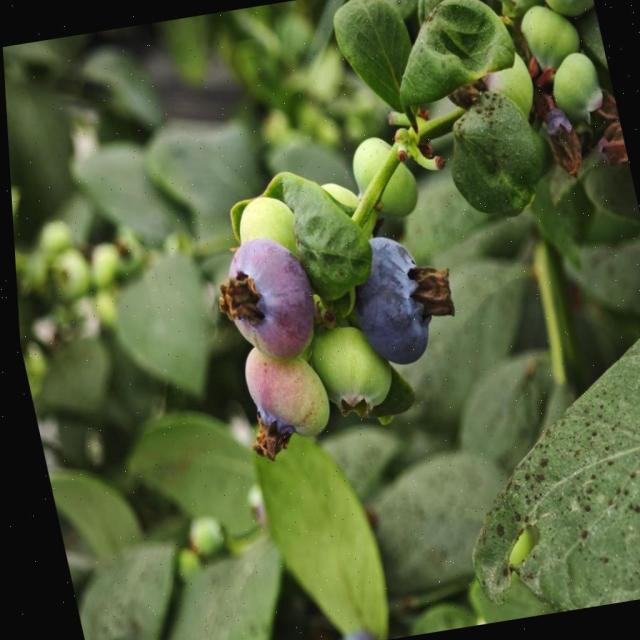Semi-RipeBlueBerry: (210, 231, 320, 362), (232, 347, 332, 459)
UnripeBlueBerry: (307, 320, 392, 420)
